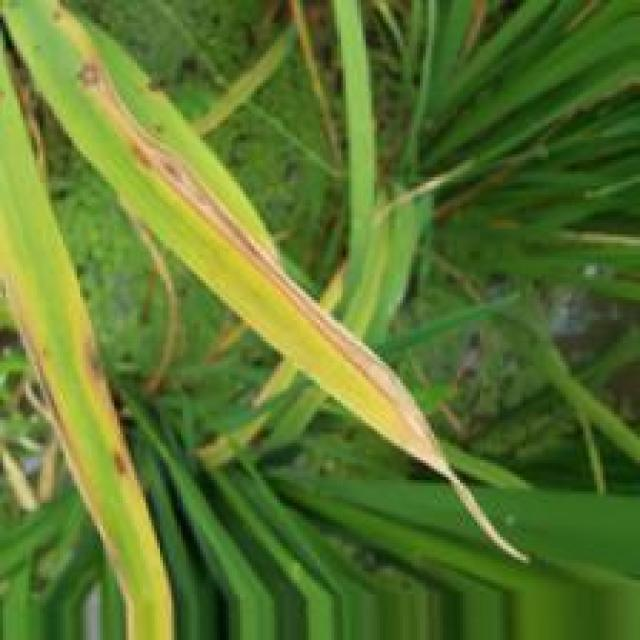Narrow_Brown_Leaf_Spot: (78, 39, 438, 462), (6, 299, 99, 516), (76, 330, 110, 399), (107, 445, 136, 490)
